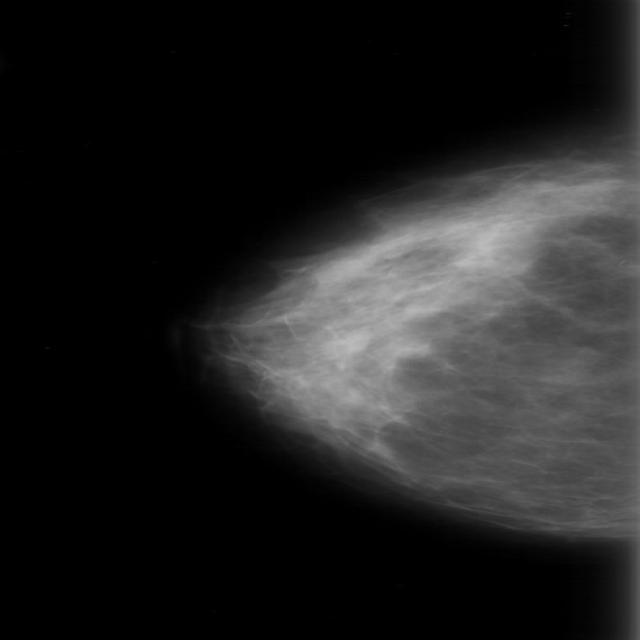tumour: (456, 222, 537, 276)
